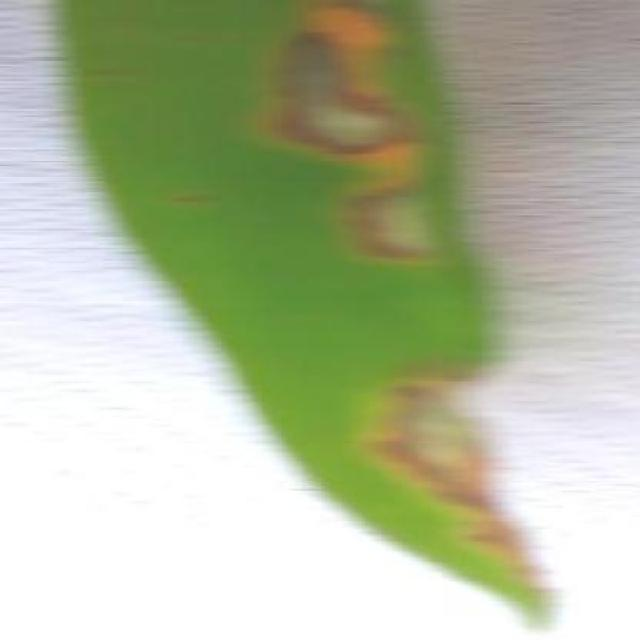Bacterial_Leaf_Blight: (332, 321, 562, 562), (252, 1, 440, 174), (314, 176, 474, 278)
Leaf_Blast: (155, 179, 211, 221), (89, 56, 143, 90), (166, 20, 217, 52)
